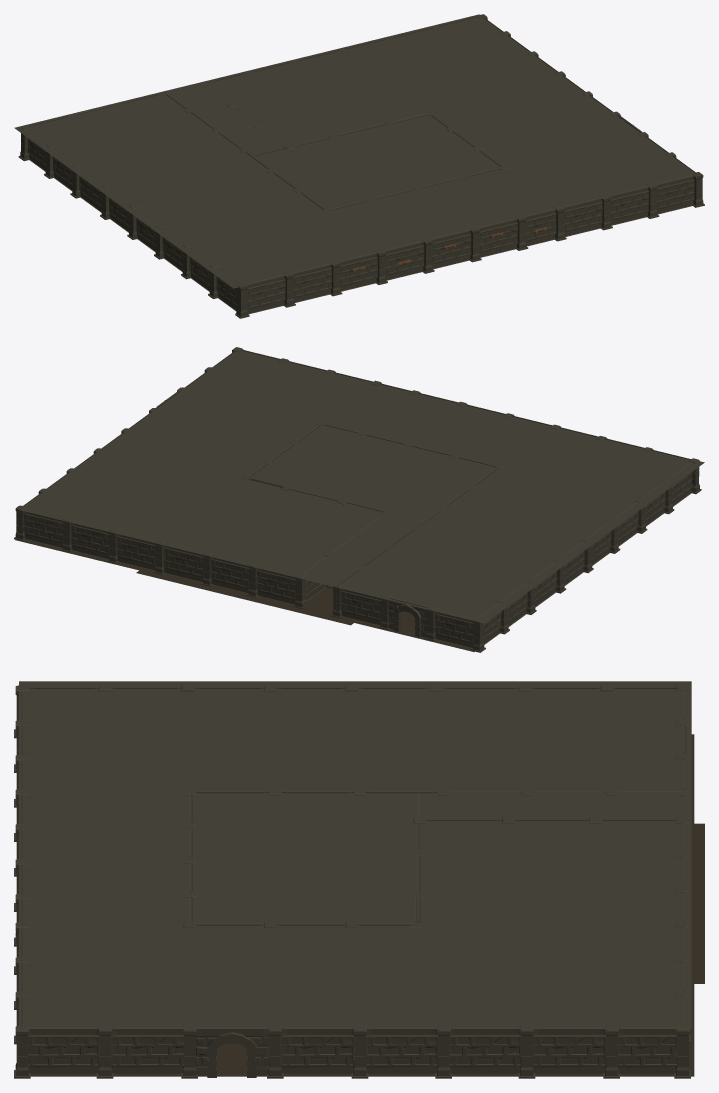
The model's file is 7komnata1lvl.fbx.
3 renders of one model, top to bottom at view 1: azimuth 30°, elevation 25°; view 2: azimuth 150°, elevation 25°; view 3: azimuth 270°, elevation 25°, orthographic. The views are drawn at different scales.
Parts seen in each view (by area): view 1: криша 2.012, Plane.330, Plane.327, Plane.325, Plane.345, Plane.326, Plane.344, Plane.346, Plane.328, Plane.329, Plane.331, Plane.358 (+4 smaller); view 2: криша 2.012, Plane.300, Plane.347, Plane.309, Plane.308, Plane.306, Plane.297, Plane.304, Plane.338, Plane.305, Plane.489, Plane.358 (+1 smaller); view 3: криша 2.012, Plane.300, Plane.343, Plane.333, Plane.336, Plane.335, Plane.334, Plane.342, Plane.332, Plane.488, Cube.320, Cube.310 (+7 smaller).
Part boxes in pixels (x1,y1,x2,y2): криша 2.012: [14, 14, 694, 288]; Plane.330: [430, 229, 471, 268]; Plane.327: [384, 241, 424, 280]; Plane.325: [246, 274, 285, 314]; Plane.345: [609, 186, 649, 225]; Plane.326: [292, 263, 332, 302]; Plane.344: [563, 197, 602, 236]; Plane.346: [655, 175, 694, 214]; Plane.328: [338, 252, 377, 291]; Plane.329: [477, 218, 517, 257]; Plane.331: [523, 207, 561, 245]; Plane.358: [79, 166, 104, 212]; криша 2.012: [18, 349, 704, 623]; Plane.300: [15, 493, 691, 652]; Plane.347: [163, 542, 204, 582]; Plane.309: [340, 586, 381, 625]; Plane.308: [23, 508, 64, 548]; Plane.306: [434, 608, 473, 648]; Plane.297: [256, 565, 296, 604]; Plane.304: [116, 531, 155, 570]; Plane.338: [210, 554, 250, 593]; Plane.305: [71, 520, 110, 559]; Plane.489: [388, 598, 427, 637]; Plane.358: [531, 561, 556, 607]; криша 2.012: [19, 681, 691, 1028]; Plane.300: [30, 734, 704, 1076]; Plane.343: [111, 1027, 187, 1074]; Plane.333: [532, 1027, 605, 1074]; Plane.336: [281, 1027, 354, 1074]; Plane.335: [365, 1027, 437, 1074]; Plane.334: [448, 1027, 521, 1074]; Plane.342: [25, 1027, 99, 1074]; Plane.332: [617, 1027, 688, 1074]; Plane.488: [195, 1029, 269, 1077]; Cube.320: [14, 1025, 30, 1078]; Cube.310: [351, 1025, 368, 1078].
Bounding box in the file's own units: 12644 × 844 × 10522.
